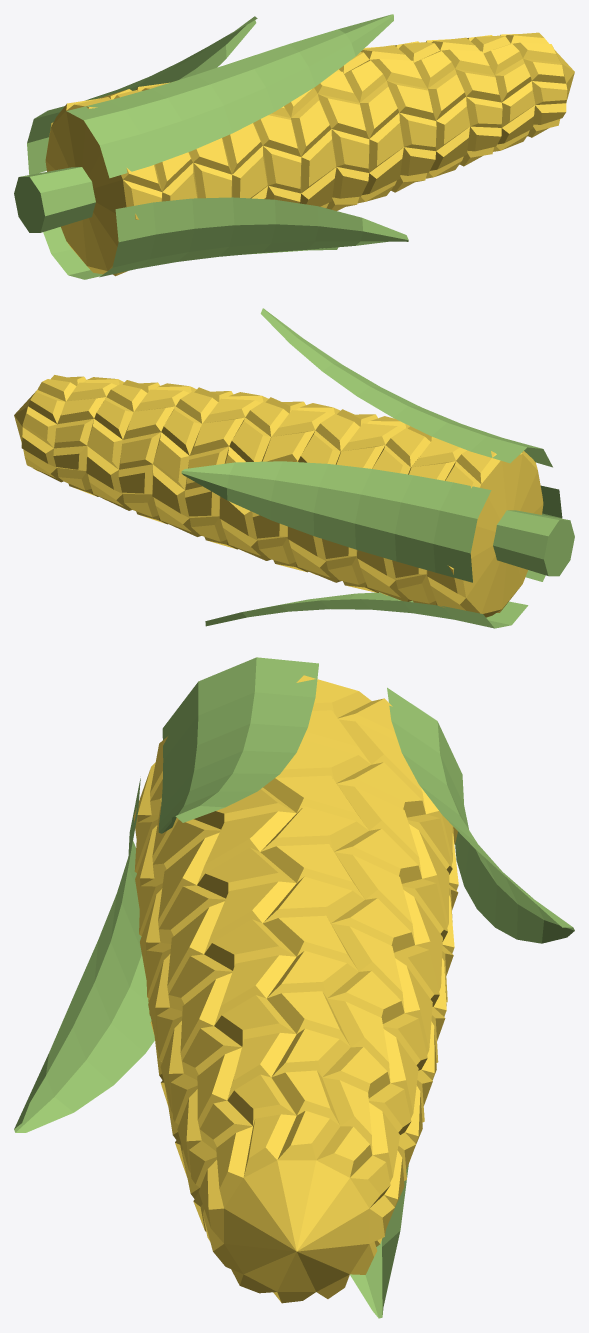
Rendered from corn_cob.glb.
3 views of the same model, one above another, from view 1: azimuth 30°, elevation 25°; view 2: azimuth 150°, elevation 25°; view 3: azimuth 270°, elevation 25° (orthographic). The views are drawn at different scales.
Visible parts, largest first — view 1: CornCob; view 2: CornCob; view 3: CornCob.
Boxes of the visible parts, x1,y1,x2,y2 form: CornCob: (14,14,574,279); CornCob: (14,308,574,628); CornCob: (14,657,574,1318).
Bounding box in the file's own units: 1.52 × 0.7371 × 0.7458.
